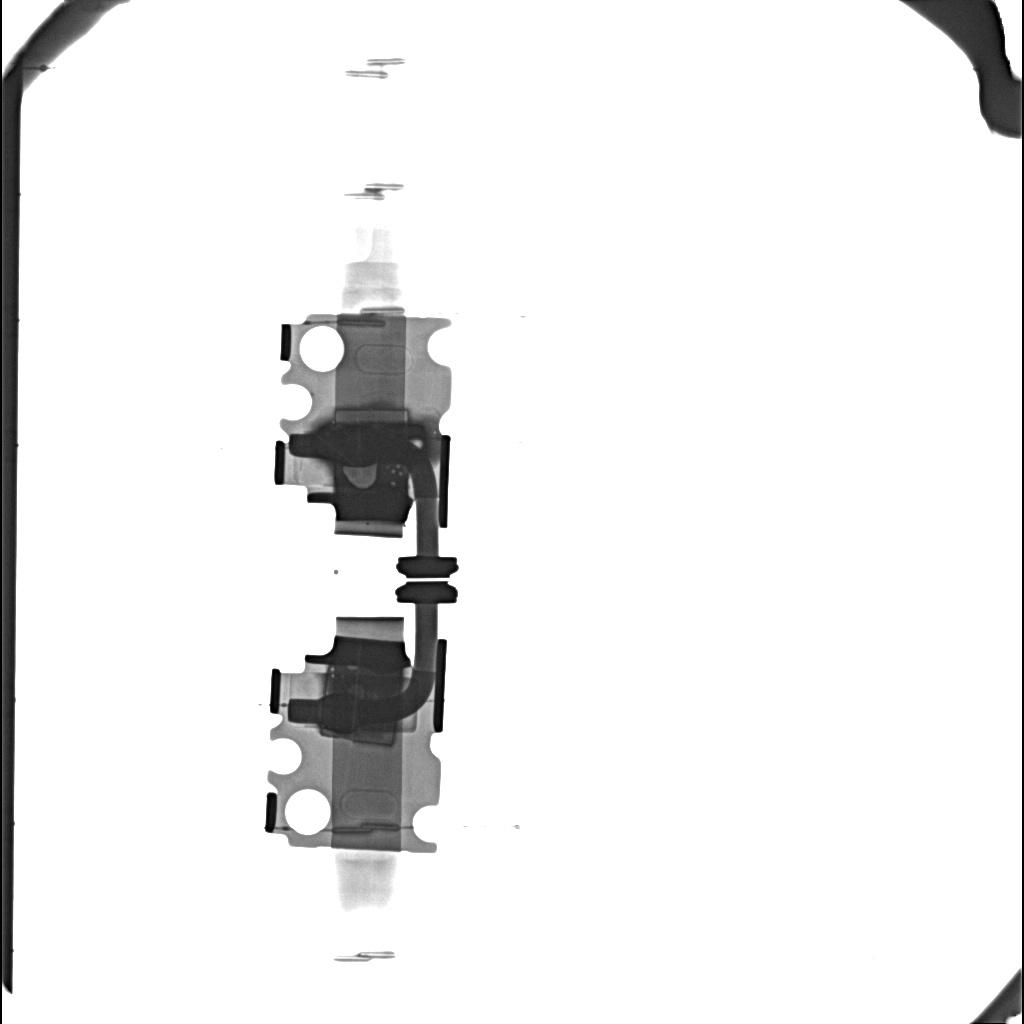气孔: (320, 725, 396, 747), (334, 408, 410, 422)
气泡: (343, 464, 377, 489)
水纹: (312, 425, 427, 464), (320, 694, 399, 733)
